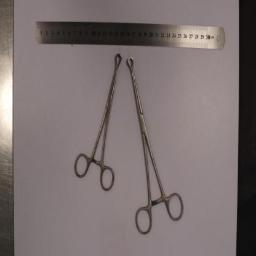Babcock Tissue Forceps: (76, 54, 122, 190)
